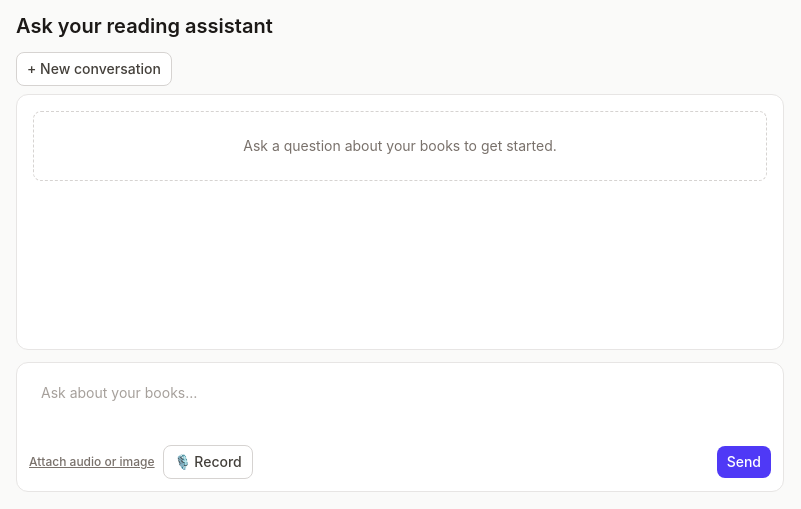
Chat › renders a guardrail refusal as a single blocked reply
This screenshot has width=801, height=509.
Type "write me a poem about taxes" into the text box named "message" at x=400, y=403, box [29,375,771,431]
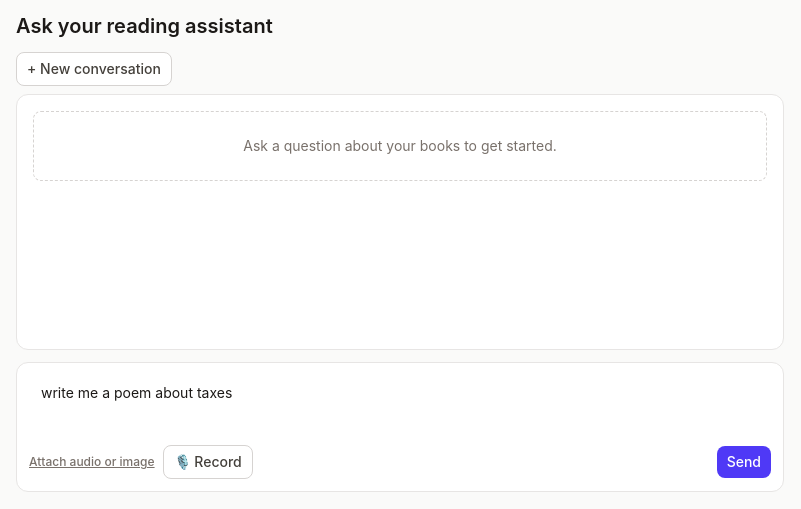
Click the button "Send" at x=744, y=462, box [717,446,771,478]
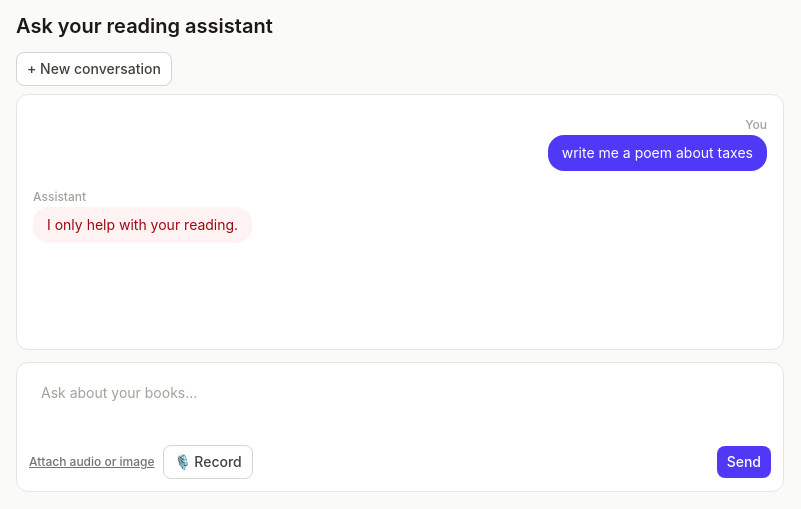
Expected: the message shows "only help with your reading", [47,216,238,233]
